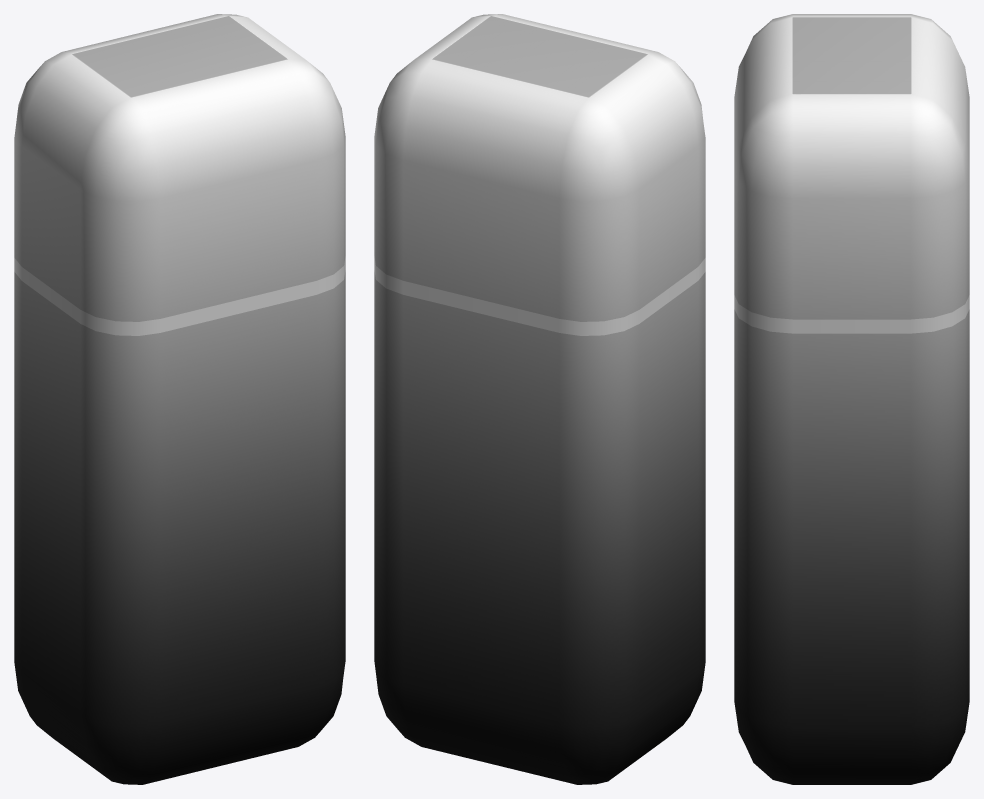
File: BG_simpletower_ligned.fbx
3 views of the same model, side by side, from view 1: azimuth 30°, elevation 25°; view 2: azimuth 150°, elevation 25°; view 3: azimuth 270°, elevation 25° (orthographic).
Visible parts, largest first — view 1: BG_simpletower_ligned; view 2: BG_simpletower_ligned; view 3: BG_simpletower_ligned.
Boxes of the visible parts, bbox=[...] form: BG_simpletower_ligned: bbox=[14, 14, 345, 784]; BG_simpletower_ligned: bbox=[374, 14, 705, 784]; BG_simpletower_ligned: bbox=[734, 14, 969, 784].
Size of the model in its own units: 778 by 1978 by 613.
